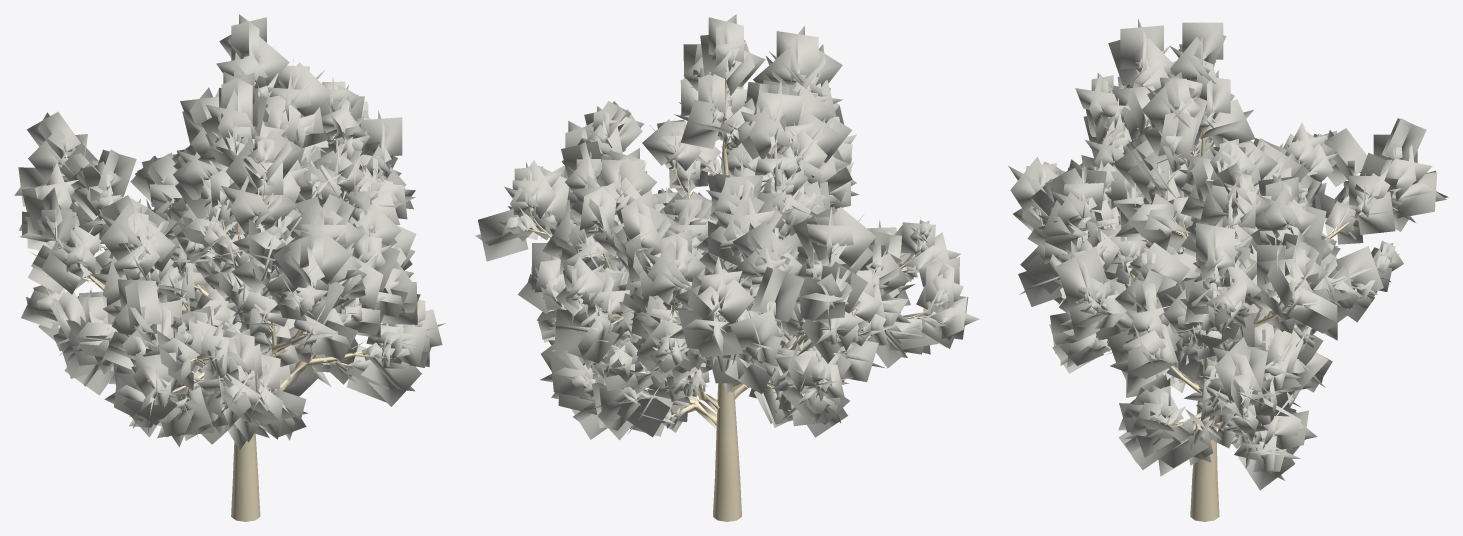
The model's file is oak_large_v0_lod1.glb.
3 renders of one model, left to right at view 1: azimuth 30°, elevation 25°; view 2: azimuth 150°, elevation 25°; view 3: azimuth 270°, elevation 25°, orthographic.
Visible parts, largest first — view 1: Leaves, Branches; view 2: Leaves, Branches; view 3: Leaves, Branches.
Boxes of the visible parts, x1,y1,x2,y2 form: Leaves: (14, 14, 445, 449); Branches: (56, 96, 387, 521); Leaves: (475, 14, 979, 440); Branches: (518, 77, 937, 521); Leaves: (1008, 19, 1448, 490); Branches: (1038, 65, 1360, 521).
Bounding box in the file's own units: 89.87 × 110 × 88.77.
